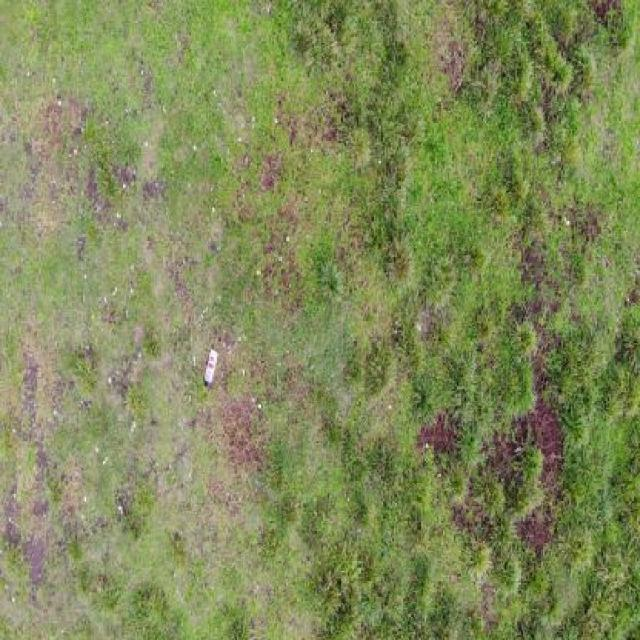Garbage: (203, 345, 218, 388)
